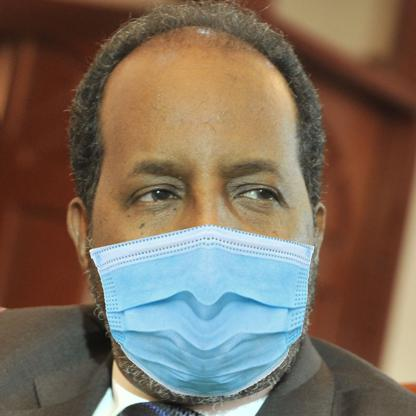mask: (91, 224, 314, 398)
